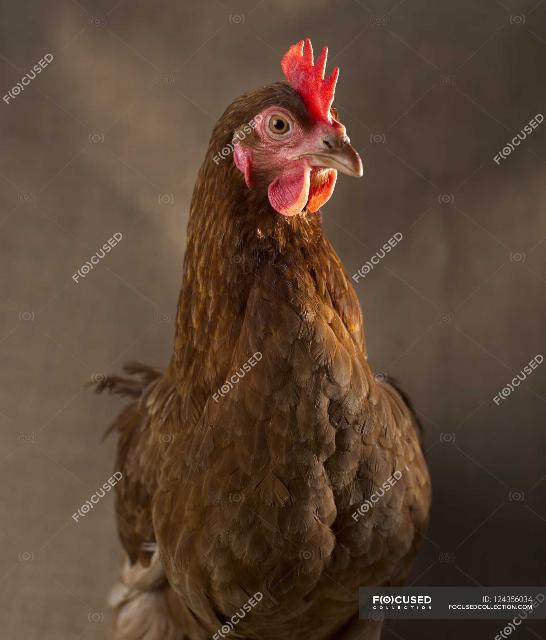Chicken: (83, 37, 433, 638)
